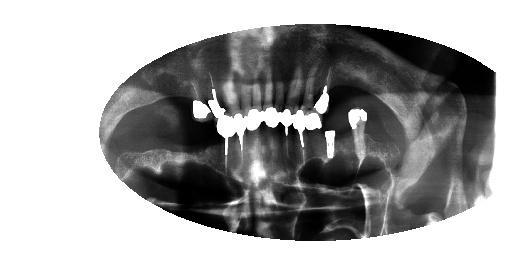i10healthy: (233, 116, 251, 176)
i3healthy: (343, 98, 372, 181)
i4loss: (332, 111, 357, 178)
i5healthy: (319, 121, 339, 179)
i7healthy: (290, 123, 312, 182)
i8decay: (280, 119, 296, 184)
i9decay: (244, 123, 269, 186)
u10healthy: (236, 68, 254, 135)
u11healthy: (218, 69, 247, 137)
u12healthy: (203, 67, 238, 142)
u13healthy: (186, 69, 215, 130)
u4healthy: (302, 65, 337, 133)
u5healthy: (292, 60, 321, 135)
u6healthy: (278, 57, 303, 131)
u7healthy: (269, 67, 287, 131)
u8healthy: (260, 62, 276, 129)
u9healthy: (249, 68, 263, 133)
